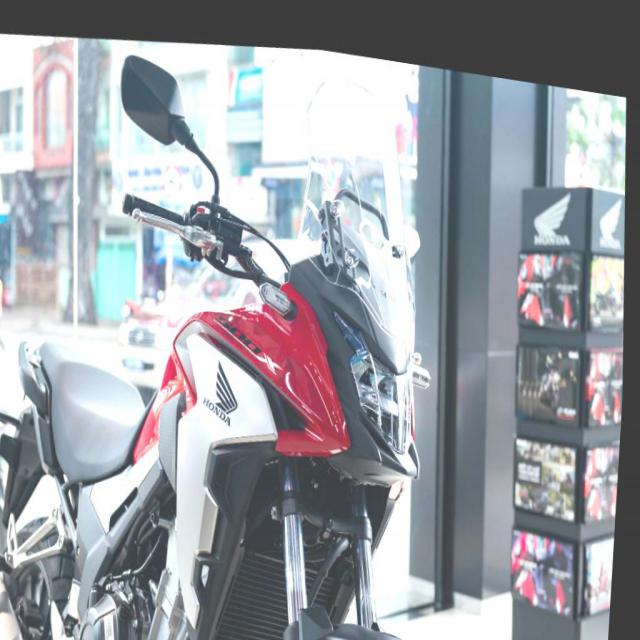CB500X: (0, 10, 501, 639)
